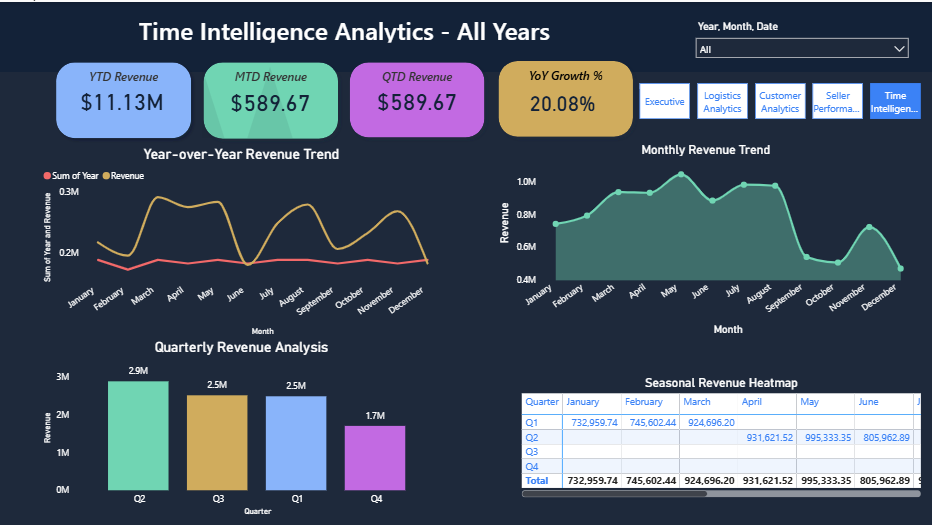

Layout of this report page (visuals, bound fields, positions):
{"tool":"powerbi","page":{"name":"Time Intelligence Analytics","canvas":[1280,720],"ordinal":4},"visuals":[{"type":"shape","box":[0,0,1280,95.8],"z":0},{"type":"shape","box":[71.9,74.3,202.9,121.8],"z":0,"group":"g1"},{"type":"shape","box":[677.9,71.9,201.9,121.5],"z":1000,"group":"g1"},{"type":"cardVisual","fields":{"Data":["Dim_Date.Time Intelligence Title"]},"box":[29.1,1.7,893.3,71.9],"z":2000},{"type":"kpi","fields":{"TrendLine":["Dim_Date.Day Name"],"Indicator":["fact_orders.YTD Revenue"]},"box":[72,81.7,198.5,109.5],"z":2000,"group":"g1"},{"type":"kpi","fields":{"TrendLine":["Dim_Date.Day Name"],"Indicator":["Dim_Date.Latest YoY Growth %"]},"box":[681.3,84.8,186.5,106.1],"z":3000,"group":"g1"},{"type":"lineChart","title":"Year-over-Year Revenue Trend","fields":{"Y":["Sum(Dim_Date.Year)","Dim_Date.Revenue"],"Category":["Dim_Date.Month"]},"box":[58.2,196.8,552.7,265.2],"z":3000},{"type":"shape","box":[274.5,73.8,202.1,122.6],"z":4000,"group":"g1"},{"type":"shape","box":[473.8,74.4,202.2,120.8],"z":5000,"group":"g1"},{"type":"areaChart","title":"Monthly Revenue Trend","fields":{"Y":["Dim_Date.Revenue"],"Category":["Dim_Date.Month"]},"box":[681.1,191.7,578.4,270.4],"z":5000},{"type":"kpi","fields":{"Indicator":["Dim_Date.MTD Revenue"],"TrendLine":["Dim_Date.Day Name"]},"box":[275.8,83.7,197,108],"z":6000,"group":"g1"},{"type":"clusteredColumnChart","title":"Quarterly Revenue Analysis","fields":{"Category":["Dim_Date.Quarter"],"Y":["Dim_Date.Revenue"]},"box":[58.2,462,552.7,246.4],"z":6000},{"type":"group","id":"g1","title":"Group 1","box":[71.9,71.9,807.7,124.9],"z":7000},{"type":"kpi","fields":{"TrendLine":["Dim_Date.Day Name"],"Indicator":["fact_orders.QTD Revenue"]},"box":[484.4,76.6,181.4,118.1],"z":7000,"group":"g1"},{"type":"pivotTable","title":"Seasonal Revenue Heatmap","fields":{"Values":["Dim_Date.Revenue"],"Rows":["Dim_Date.Quarter"],"Columns":["Dim_Date.Month"]},"box":[713.6,511.7,556.1,171.1],"z":8000},{"type":"pageNavigator","box":[879.6,111.2,386.7,49.6],"z":9000},{"type":"slicer","fields":{"Values":["Dim_Date.Year","Dim_Date.Month","Dim_Date.Date"]},"box":[946.3,20.5,311.4,75.3],"z":9001}]}

Visuals, with their boxes in screenshot pixels (x1, y1, x2, y2), scaled from the page's 1280x720 canvas onto the 932x525 screenshot:
shape: Rect(0, 0, 931, 70)
shape: Rect(52, 54, 200, 143)
shape: Rect(494, 52, 641, 141)
cardVisual - Dim_Date.Time Intelligence Title: Rect(21, 1, 672, 54)
kpi - Dim_Date.Day Name x fact_orders.YTD Revenue: Rect(52, 60, 197, 139)
kpi - Dim_Date.Day Name x Dim_Date.Latest YoY Growth %: Rect(496, 62, 632, 139)
"Year-over-Year Revenue Trend" lineChart: Rect(42, 144, 445, 337)
shape: Rect(200, 54, 347, 143)
shape: Rect(345, 54, 492, 142)
"Monthly Revenue Trend" areaChart: Rect(496, 140, 917, 337)
kpi - Dim_Date.MTD Revenue x Dim_Date.Day Name: Rect(201, 61, 344, 140)
"Quarterly Revenue Analysis" clusteredColumnChart: Rect(42, 337, 445, 517)
"Group 1" group: Rect(52, 52, 640, 144)
kpi - Dim_Date.Day Name x fact_orders.QTD Revenue: Rect(353, 56, 485, 142)
"Seasonal Revenue Heatmap" pivotTable: Rect(520, 373, 925, 498)
pageNavigator: Rect(640, 81, 922, 117)
slicer - Dim_Date.Year x Dim_Date.Month: Rect(689, 15, 916, 70)
